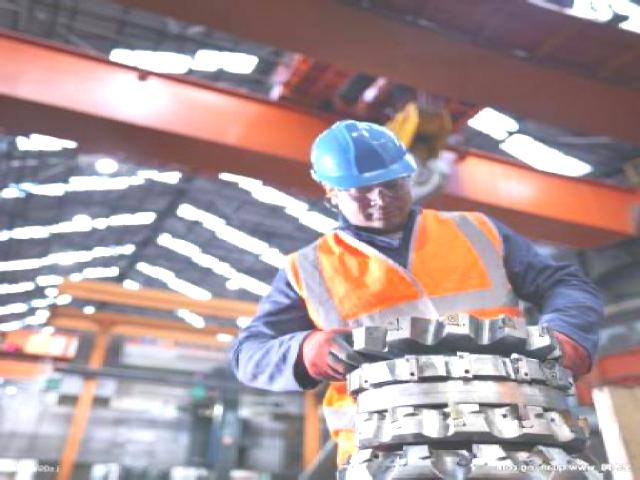Helmet: (305, 115, 423, 196)
